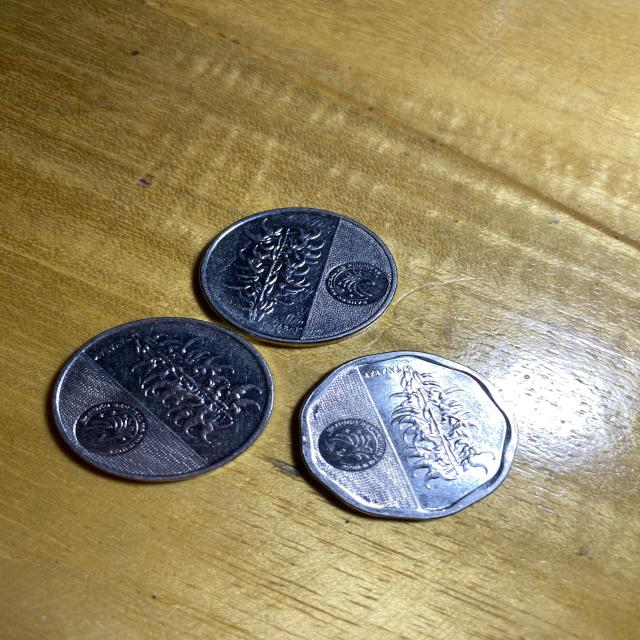5_New_Back: (108, 325, 258, 439), (386, 366, 498, 490), (212, 216, 322, 328)
